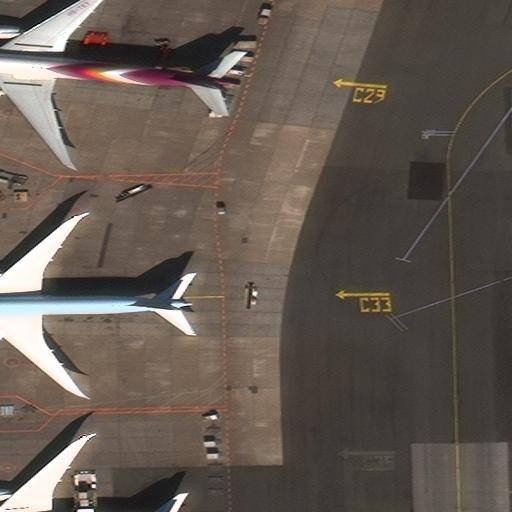Large Civil Transport: (0, 0, 242, 164), (0, 220, 195, 395), (0, 439, 173, 512)
